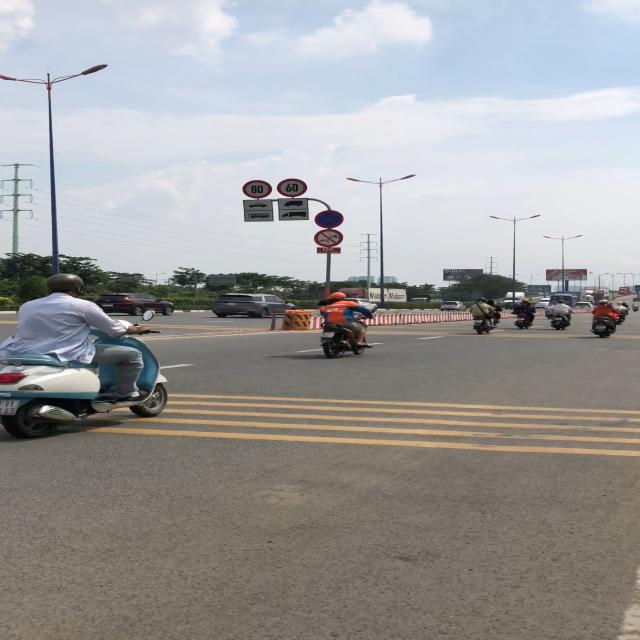Bien bao cam dung xe va do xe: (312, 209, 345, 229)
Bien bao toc do toi da cho phep: (241, 179, 273, 199), (276, 178, 309, 197)
